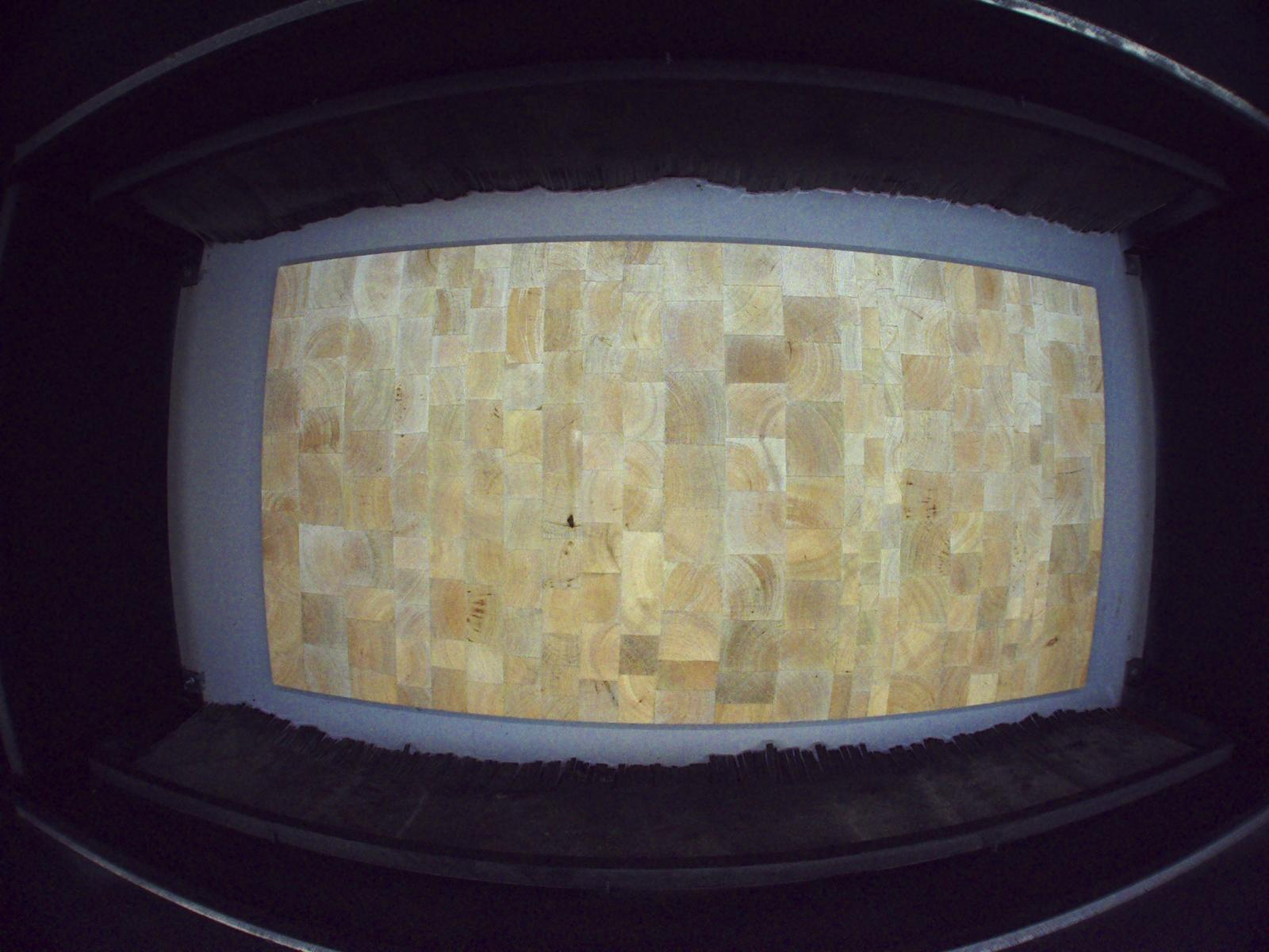sheck_ecuatoriano: (543, 512, 583, 529)
